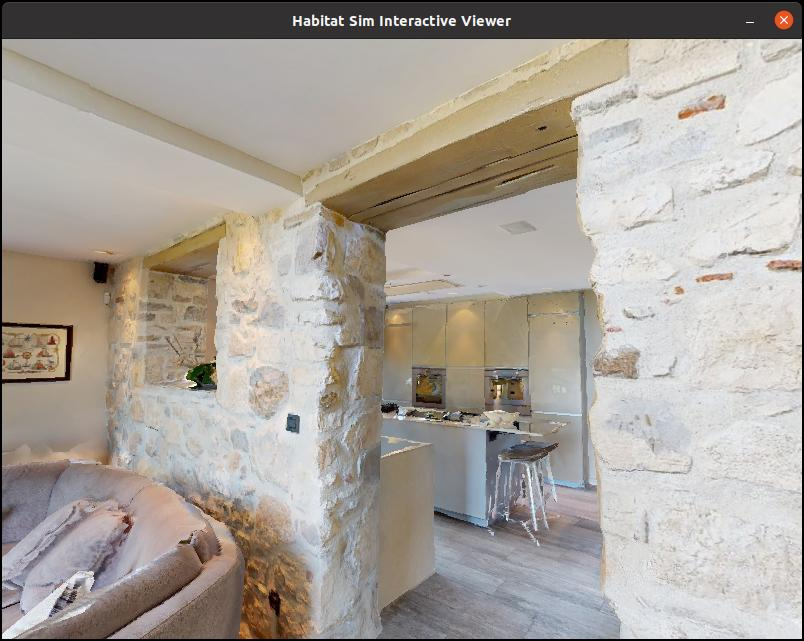chair: (483, 421, 572, 565)
door-frame: (313, 105, 665, 641)
